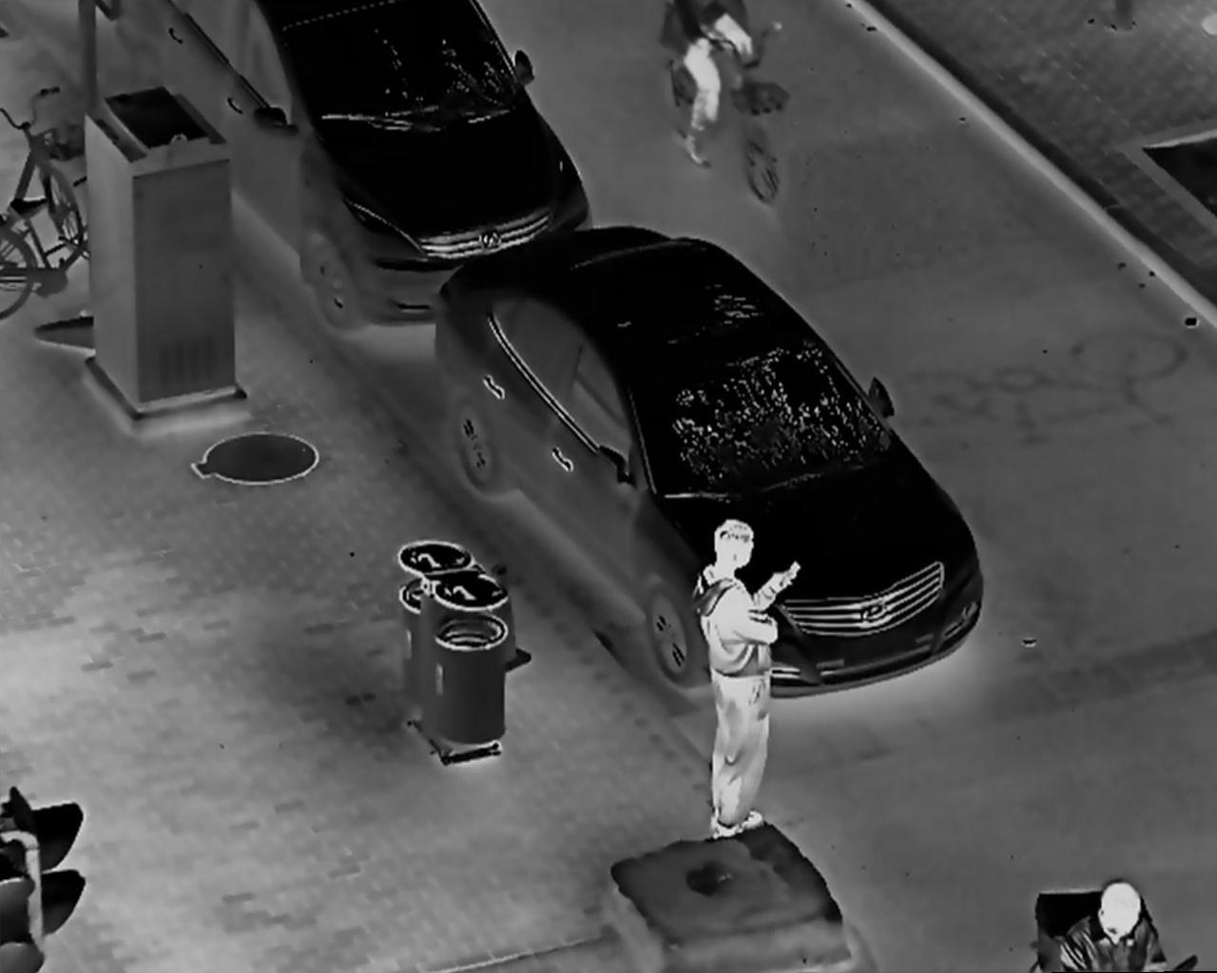person: (691, 516, 780, 846), (1049, 873, 1179, 973)
